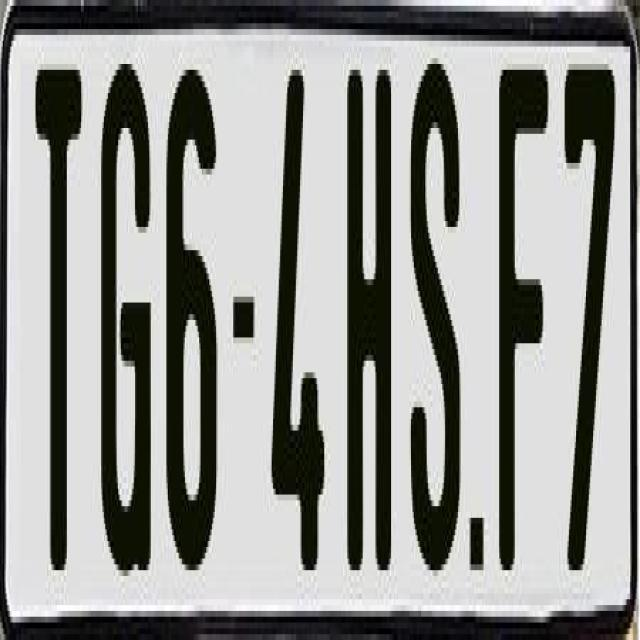4: (272, 58, 332, 582)
6: (163, 63, 222, 564)
7: (562, 58, 613, 559)
F: (495, 64, 545, 594)
G: (100, 52, 156, 576)
H: (346, 63, 392, 564)
S: (410, 52, 466, 576)
T: (32, 58, 82, 594)
